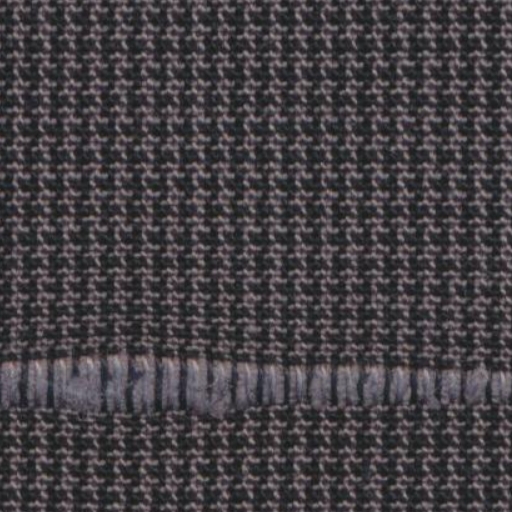DaiSha: (5, 331, 502, 418)
